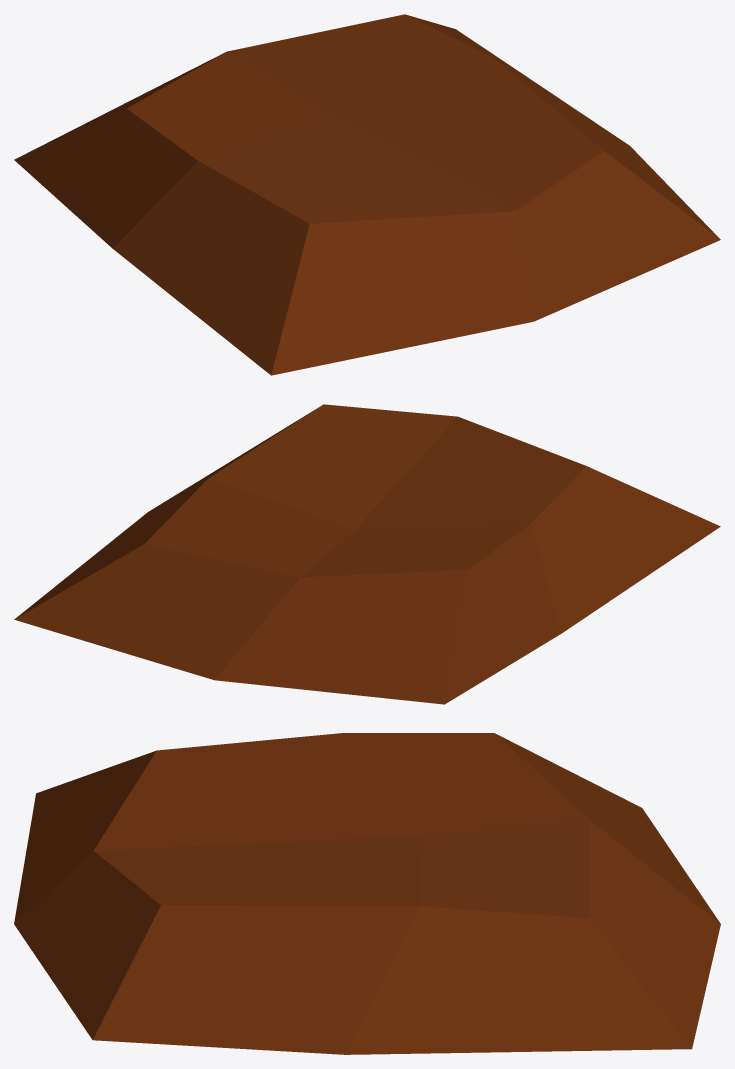
The model's file is Digsite_base.fbx.
The picture shows the model from 3 angles, top to bottom: view 1: azimuth 30°, elevation 25°; view 2: azimuth 150°, elevation 25°; view 3: azimuth 270°, elevation 25°; orthographic projection. The views are drawn at different scales.
Parts seen in each view (by area): view 1: Digsite_Base; view 2: Digsite_Base; view 3: Digsite_Base.
Boxes of the visible parts, box(x1,y1,x2,y2) form: Digsite_Base: box(14, 14, 720, 375); Digsite_Base: box(14, 404, 720, 704); Digsite_Base: box(14, 733, 720, 1054).
Size of the model in its own units: 72.23 by 12.54 by 82.53.
